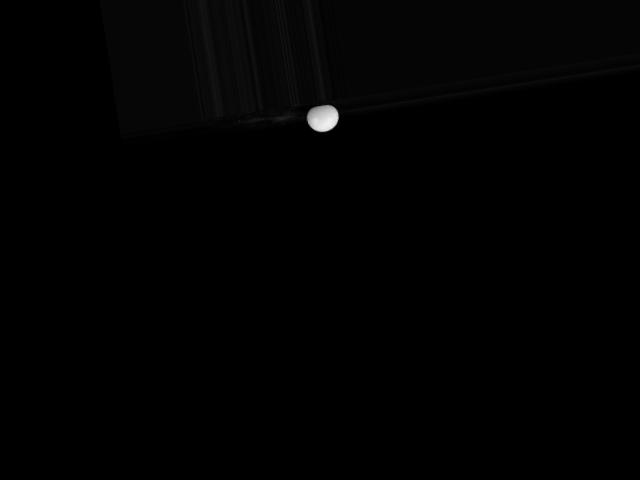egg: (304, 103, 340, 134)
